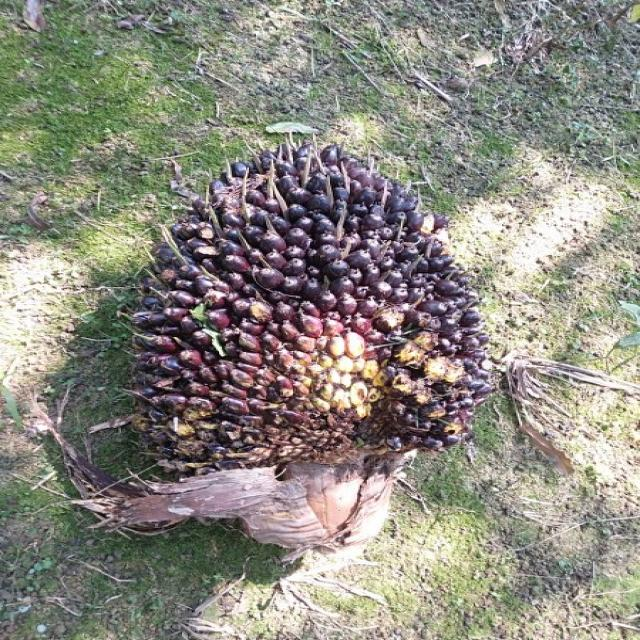fraksi 00: (133, 144, 485, 470)
